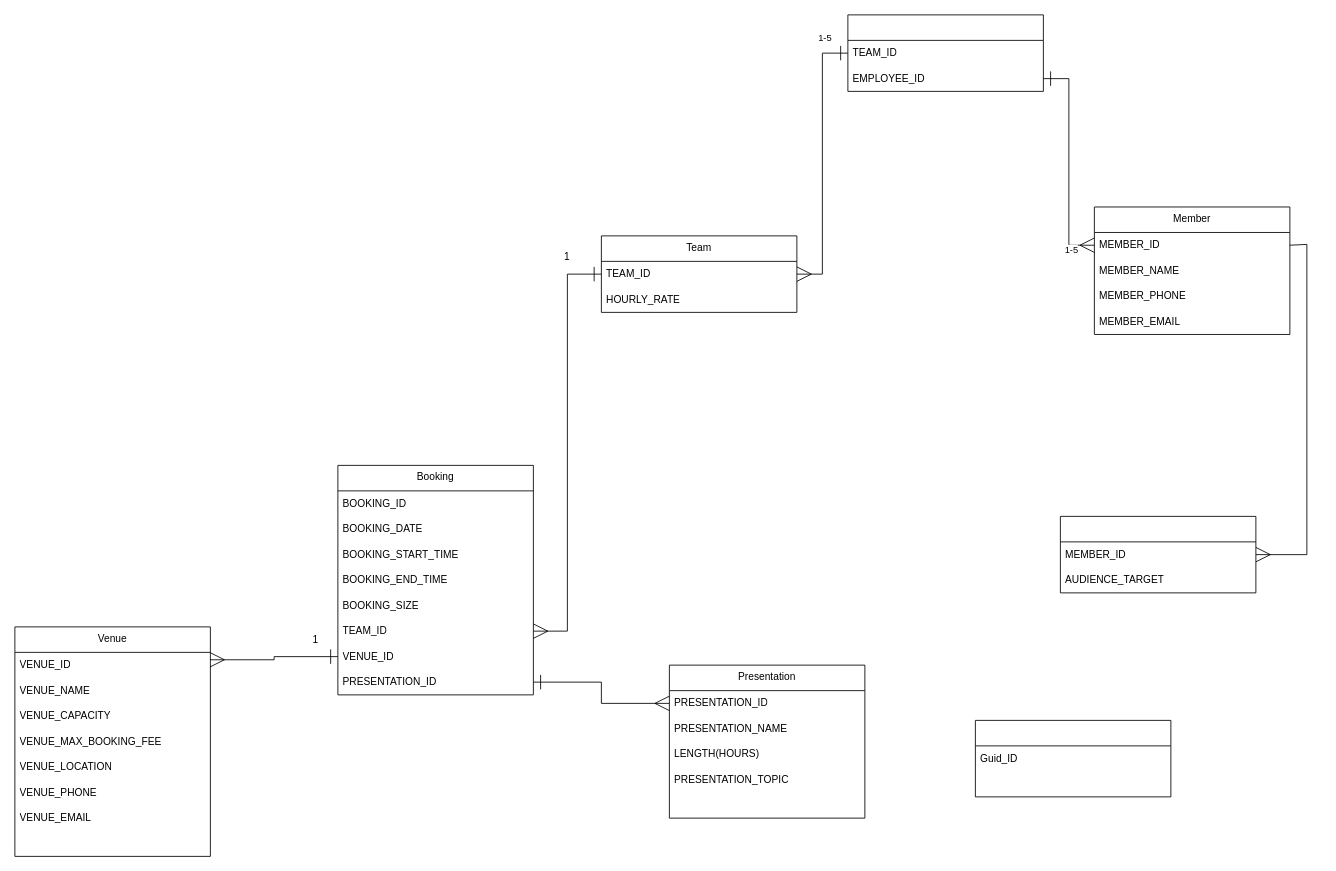
Image size: 1336x871. Some labels were removed from this diagram. The box of each missing label's shape, as (x1, y1, x2, y2) in pixels:
Expert_Guide: (975, 720, 1171, 797)
Target_Audience: (1060, 516, 1256, 593)
Team_has_Member: (847, 14, 1043, 91)
